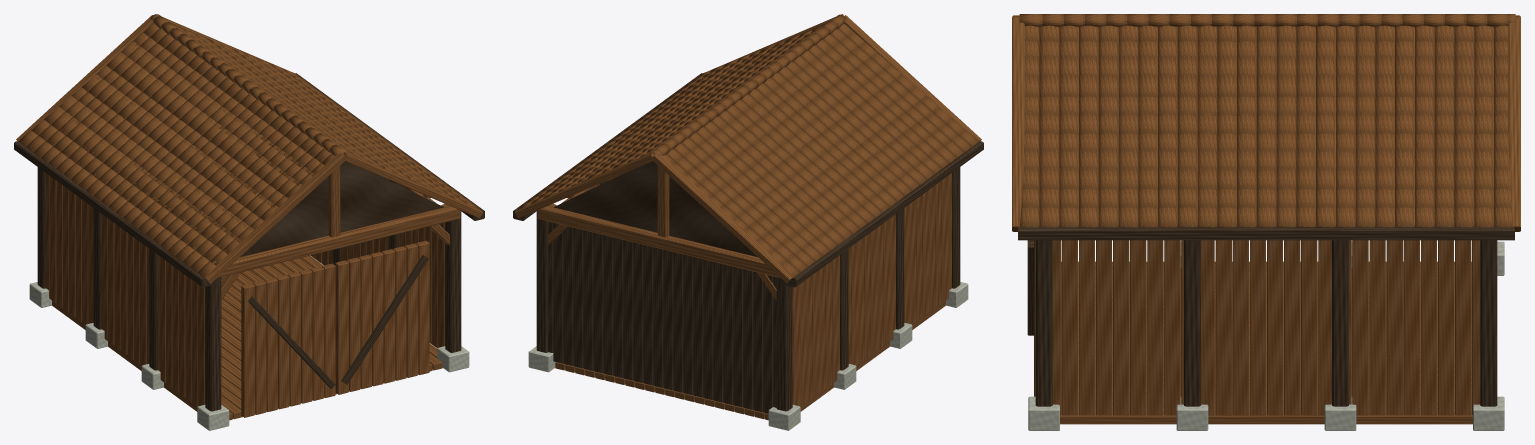
File: boatshed_closed.glb
3 views of the same model, side by side, from view 1: azimuth 30°, elevation 25°; view 2: azimuth 150°, elevation 25°; view 3: azimuth 270°, elevation 25° (orthographic). The views are drawn at different scales.
Visible parts, largest first — view 1: boatshed_closed_Joinery.001, boatshed_closed_Roof.001, boatshed_closed_Structure.001; view 2: boatshed_closed_Joinery.001, boatshed_closed_Roof.001, boatshed_closed_Structure.001; view 3: boatshed_closed_Roof.001, boatshed_closed_Joinery.001, boatshed_closed_Structure.001.
Part boxes in pixels (bbox=[...]): boatshed_closed_Joinery.001: bbox=[14, 14, 484, 420]; boatshed_closed_Roof.001: bbox=[18, 14, 480, 277]; boatshed_closed_Structure.001: bbox=[29, 282, 469, 430]; boatshed_closed_Joinery.001: bbox=[513, 14, 983, 420]; boatshed_closed_Roof.001: bbox=[517, 14, 979, 277]; boatshed_closed_Structure.001: bbox=[528, 282, 968, 430]; boatshed_closed_Roof.001: bbox=[1019, 14, 1515, 227]; boatshed_closed_Joinery.001: bbox=[1012, 15, 1520, 424]; boatshed_closed_Structure.001: bbox=[1028, 241, 1504, 430].
Bounding box in the file's own units: 6.14 × 5.2 × 7.21.
Materials: 1 (1 with a texture image).
